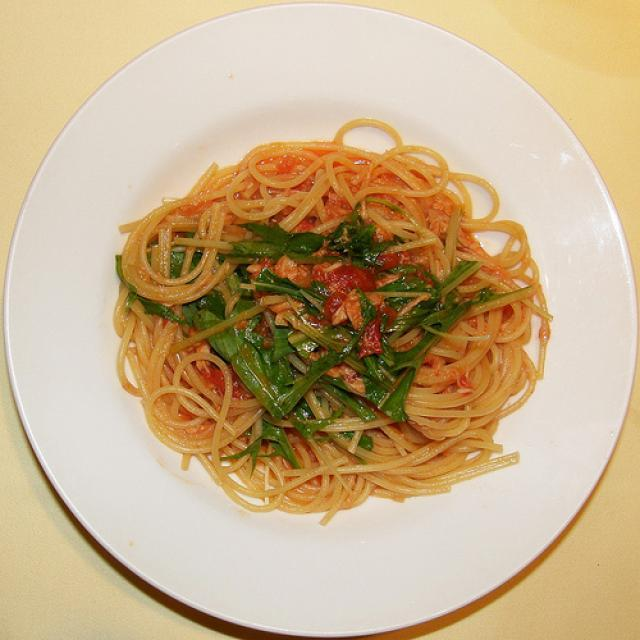Pasta: (120, 138, 556, 510)
